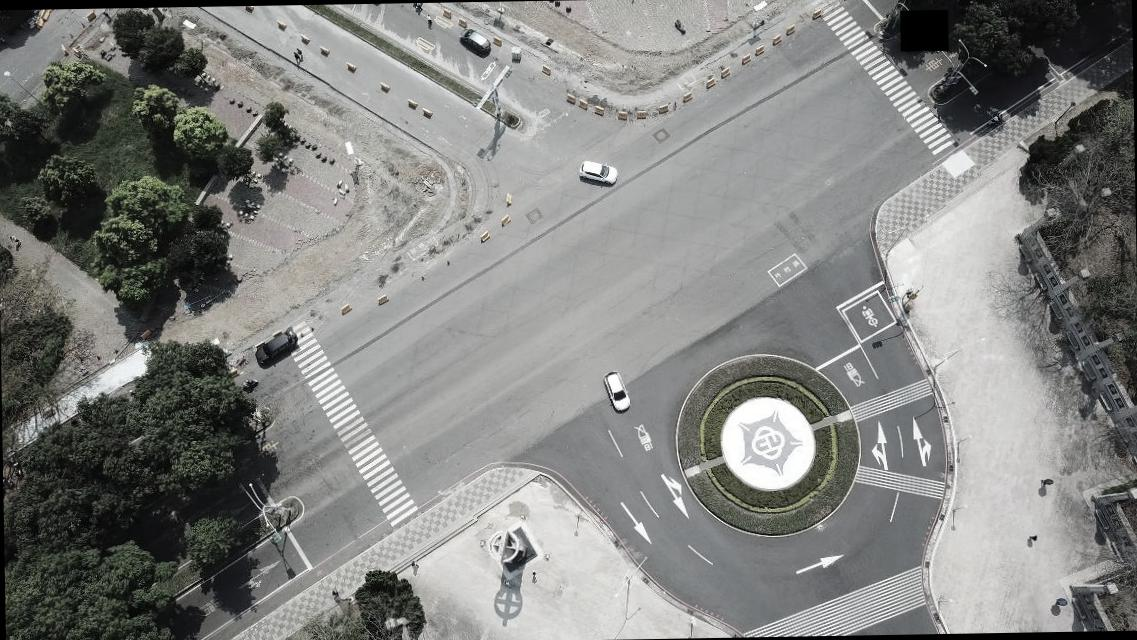vehicle: (254, 328, 298, 362), (603, 370, 630, 412), (578, 160, 617, 186), (459, 28, 490, 54)
